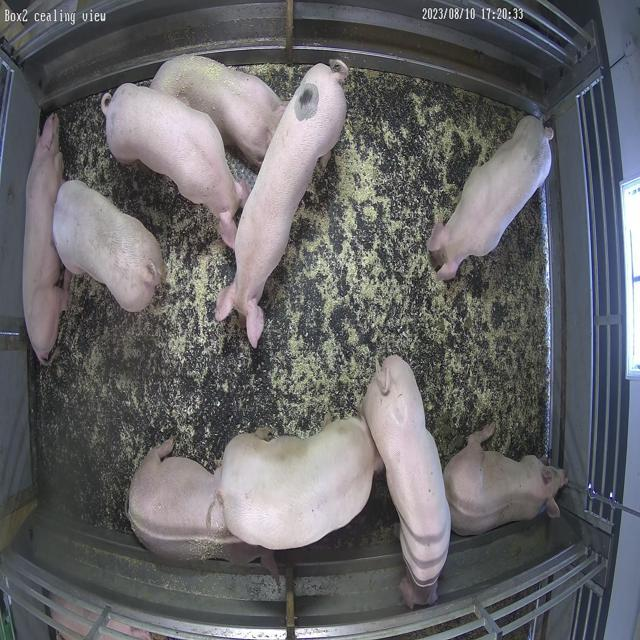Dirt: (344, 68, 525, 162)
Pig: (216, 60, 349, 348), (101, 83, 248, 248), (363, 356, 452, 608), (219, 418, 381, 550), (428, 115, 555, 280), (128, 439, 270, 564), (151, 54, 288, 166), (52, 181, 164, 312), (445, 424, 569, 536), (22, 113, 68, 362)
